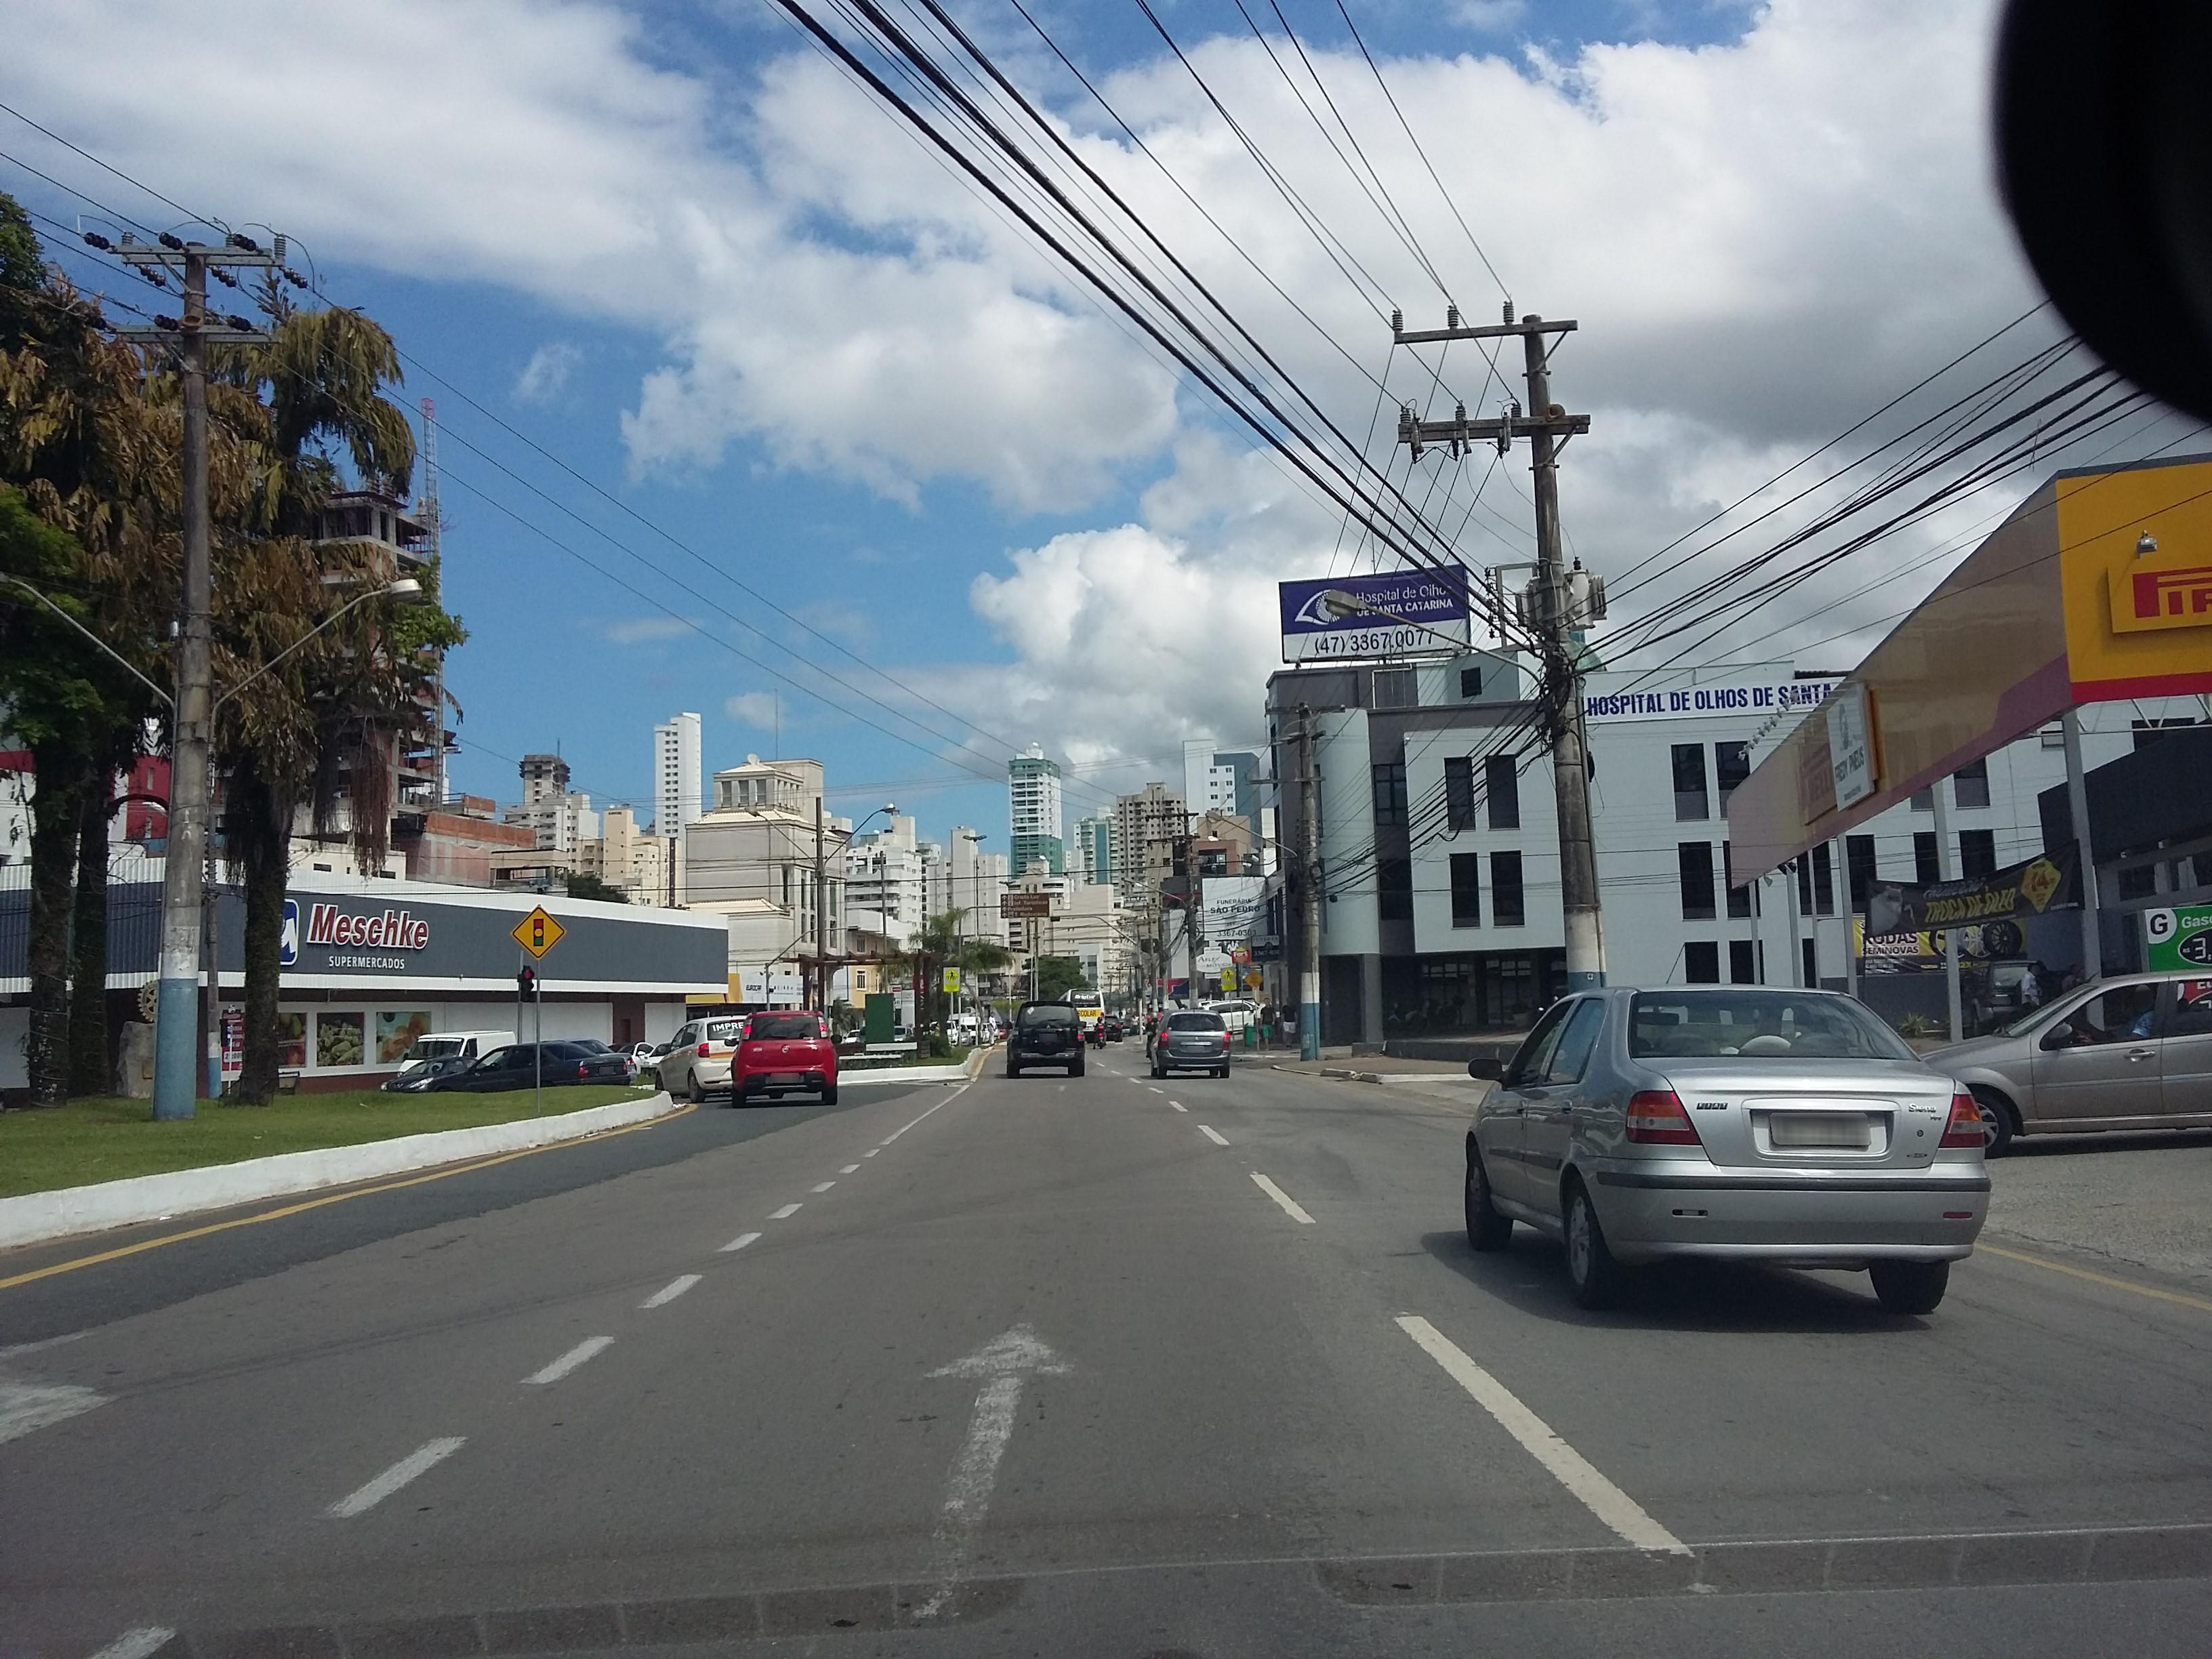vinyl banner: (1851, 840, 2111, 948), (1578, 667, 1867, 716)
